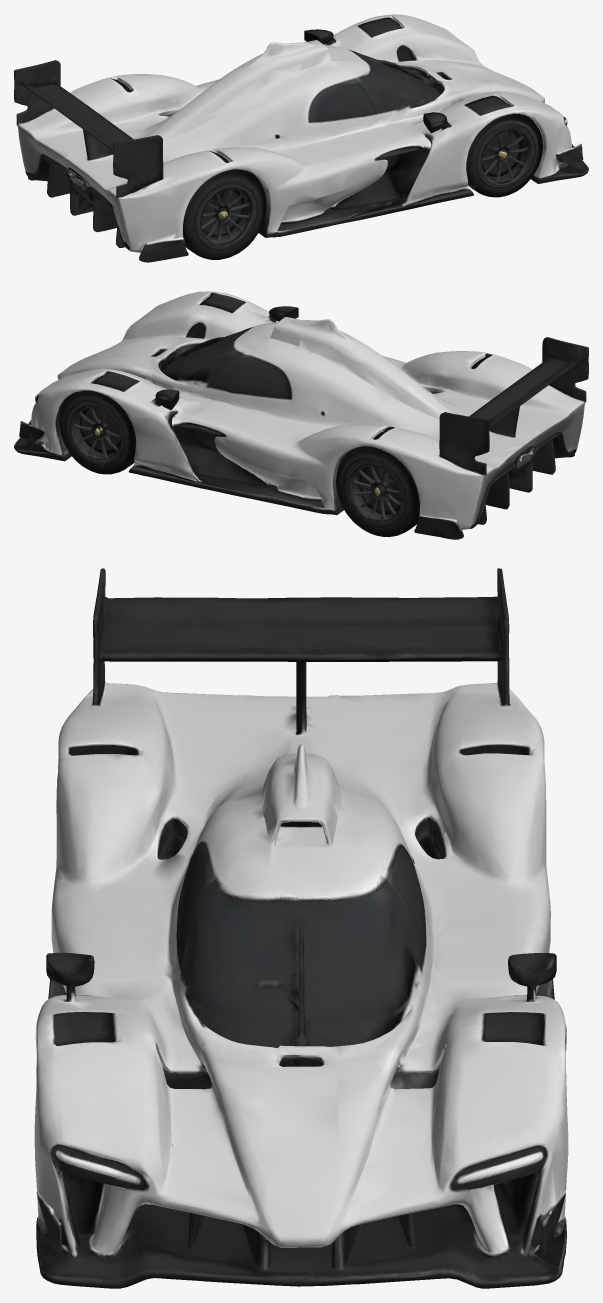
The model's file is dune.glb.
3 renders of one model, top to bottom at view 1: azimuth 30°, elevation 25°; view 2: azimuth 150°, elevation 25°; view 3: azimuth 270°, elevation 25°, orthographic. The views are drawn at different scales.
Visible parts, largest first — view 1: tripo_node_1d23c418-075e-4927-a782-1e96c952d999; view 2: tripo_node_1d23c418-075e-4927-a782-1e96c952d999; view 3: tripo_node_1d23c418-075e-4927-a782-1e96c952d999.
Part boxes in pixels (bbox=[...]): tripo_node_1d23c418-075e-4927-a782-1e96c952d999: bbox=[14, 14, 588, 262]; tripo_node_1d23c418-075e-4927-a782-1e96c952d999: bbox=[14, 291, 588, 539]; tripo_node_1d23c418-075e-4927-a782-1e96c952d999: bbox=[34, 568, 568, 1288].
Bounding box in the file's own units: 1 × 0.2989 × 0.484.
1 material, 1 textured.
